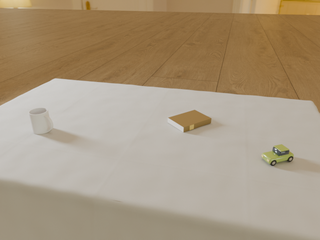book: (168, 110, 211, 132)
cup: (29, 108, 53, 134)
toy_car: (262, 144, 294, 166)
